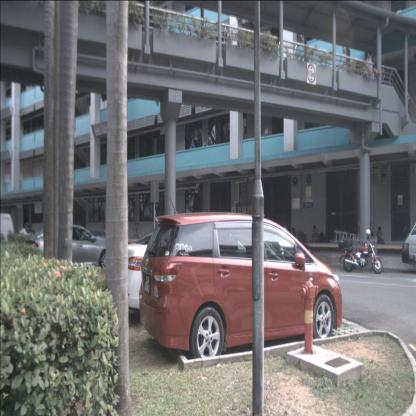human-pedestrian-adult: (362, 52, 374, 80), (310, 224, 320, 244), (189, 137, 196, 163), (376, 226, 385, 245), (291, 226, 299, 247), (368, 223, 376, 243)
vehicle-car: (139, 212, 343, 364), (19, 224, 117, 279)
vehicle-motorcycle: (338, 229, 382, 274)
